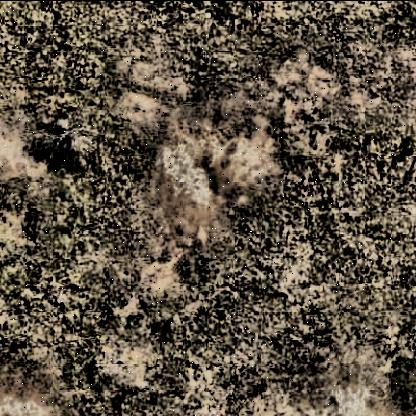tree-top: (21, 92, 99, 174), (398, 135, 416, 161)
